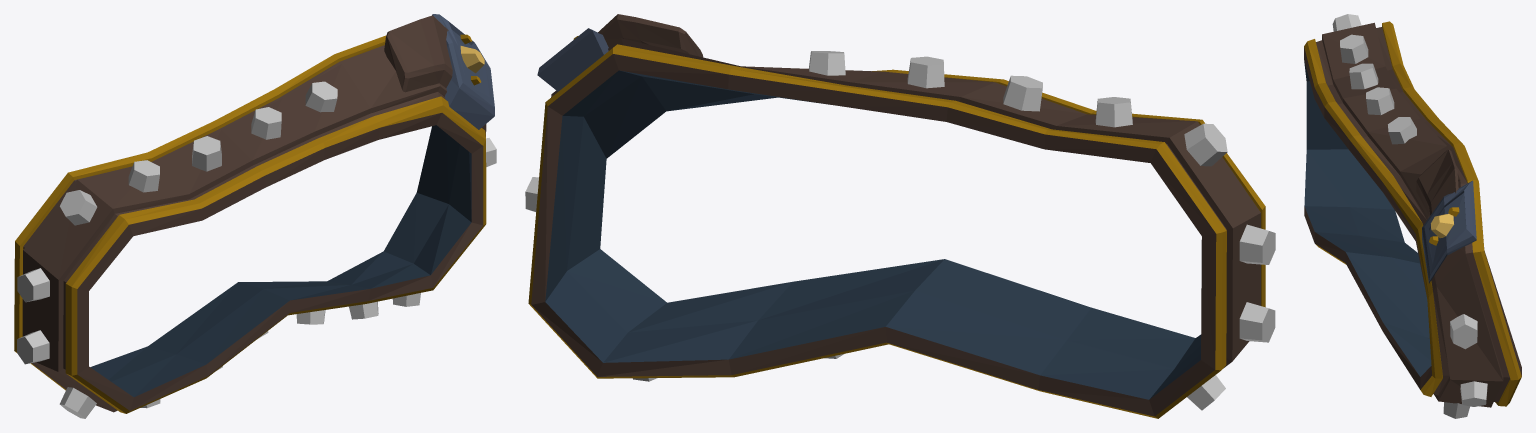
The model's file is knuckle-ring-529610.glb.
3 views of the same model, side by side, from view 1: azimuth 30°, elevation 25°; view 2: azimuth 150°, elevation 25°; view 3: azimuth 270°, elevation 25° (orthographic). The views are drawn at different scales.
Visible parts, largest first — view 1: back; view 2: back; view 3: back.
Boxes of the visible parts, box(x1,y1,x2,y2) form: back: box(14, 14, 496, 418); back: box(525, 14, 1275, 418); back: box(1304, 14, 1521, 418).
Bounding box in the file's own units: 0.0964 × 0.0494 × 0.0379.
